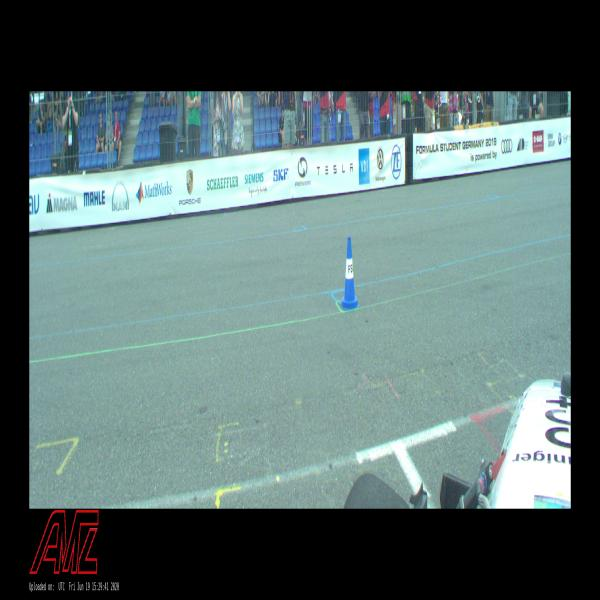blue_cone: (340, 237, 360, 310)
